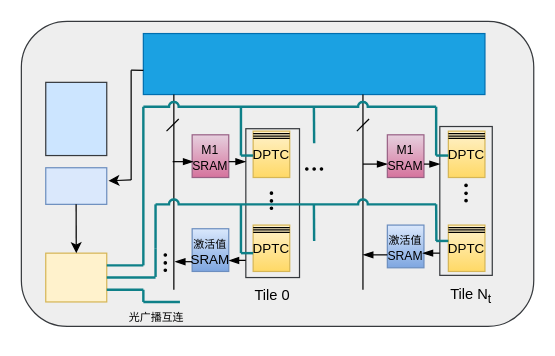
Some shapes in this 555 by 356 pixel diagram are drawn without their labels. Here are the shapes that lost their labels. From the top down, the centre of each, then its label:
At point (313, 63): "全局SRAM".
At point (76, 118): "数字处理单元".
At point (76, 185): "共享M2 SRAM".
At point (76, 277): "共享 M2 调制单元".
